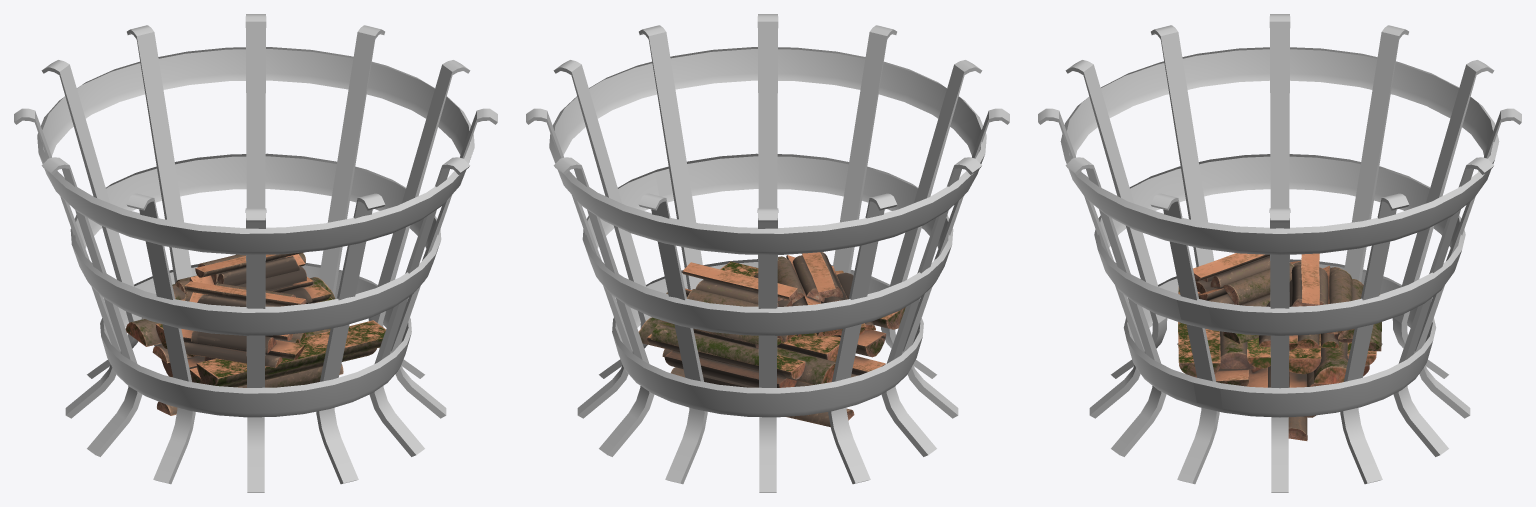
Rendered from SM_bowlwfire.fbx.
The picture shows the model from 3 angles, left to right: view 1: azimuth 30°, elevation 25°; view 2: azimuth 150°, elevation 25°; view 3: azimuth 270°, elevation 25°; orthographic projection.
Visible parts, largest first — view 1: SM_bowlwfire_LOD0; view 2: SM_bowlwfire_LOD0; view 3: SM_bowlwfire_LOD0.
Part boxes in pixels (box(x1,y1,x2,y2)): SM_bowlwfire_LOD0: box(14, 14, 497, 492); SM_bowlwfire_LOD0: box(526, 14, 1009, 492); SM_bowlwfire_LOD0: box(1038, 14, 1521, 492).
Size of the model in its own units: 93.41 by 93.41 by 64.34.
